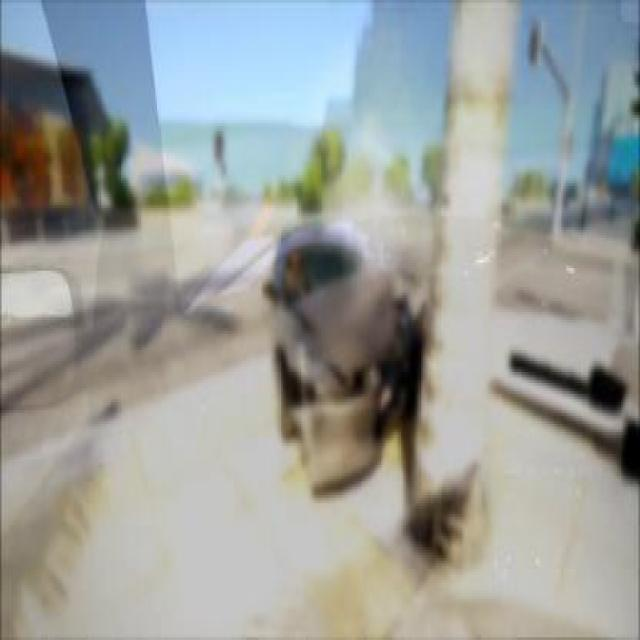accident: (262, 0, 543, 514)
